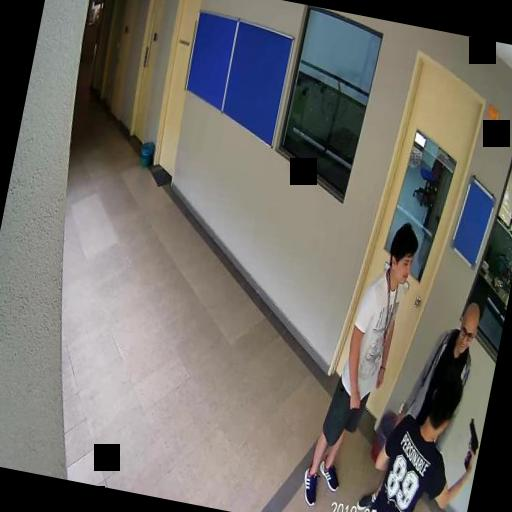Handgun: (459, 416, 482, 471)
